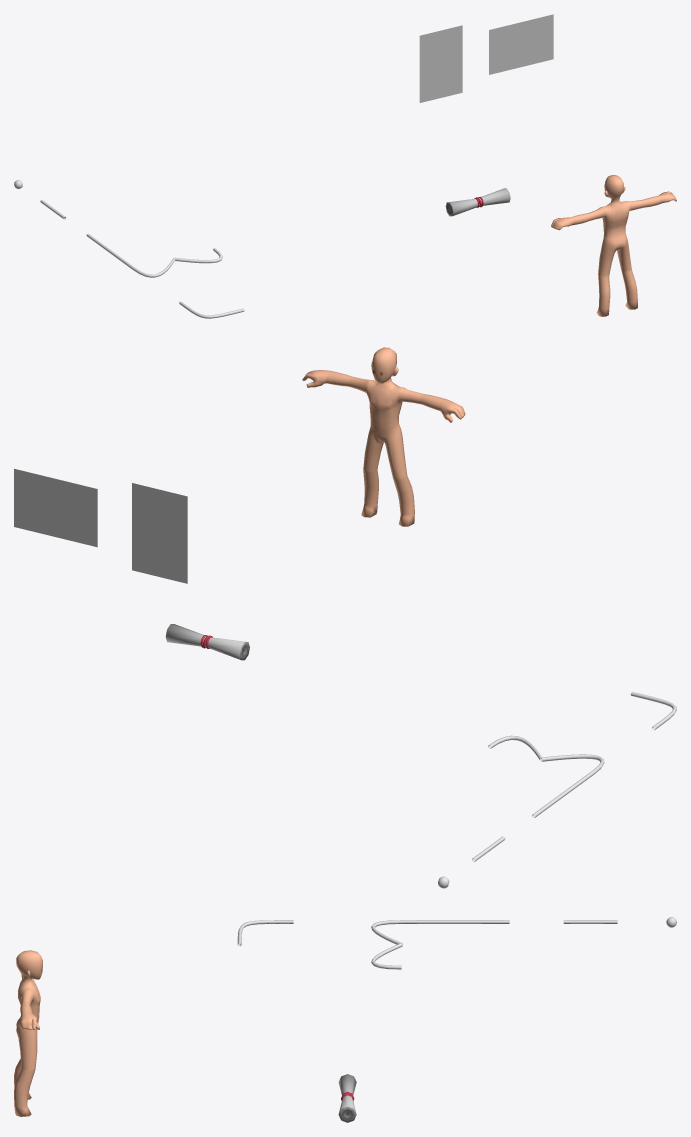
File: Posters.fbx
3 renders of one model, top to bottom at view 1: azimuth 30°, elevation 25°; view 2: azimuth 150°, elevation 25°; view 3: azimuth 270°, elevation 25°, orthographic. The views are drawn at different scales.
Visible parts, largest first — view 1: Human, Poster Vertical, Poster Horizontal, Poster Roll; view 2: Human, Poster Horizontal, Poster Vertical, Poster Roll; view 3: Human, Poster Roll, BezierCurve.011.
Part boxes in pixels (x1,y1,x2,y2): Human: (551,175,676,316); Poster Vertical: (419,25,462,102); Poster Horizontal: (489,14,553,74); Poster Roll: (445,188,510,216); Human: (302,347,465,526); Poster Horizontal: (14,468,97,547); Poster Vertical: (132,483,187,583); Poster Roll: (165,624,249,660); Human: (14,950,42,1116); Poster Roll: (338,1074,356,1122); BezierCurve.011: (401,920,509,923).
Size of the model in its own units: 5.45 by 1.84 by 6.14.
